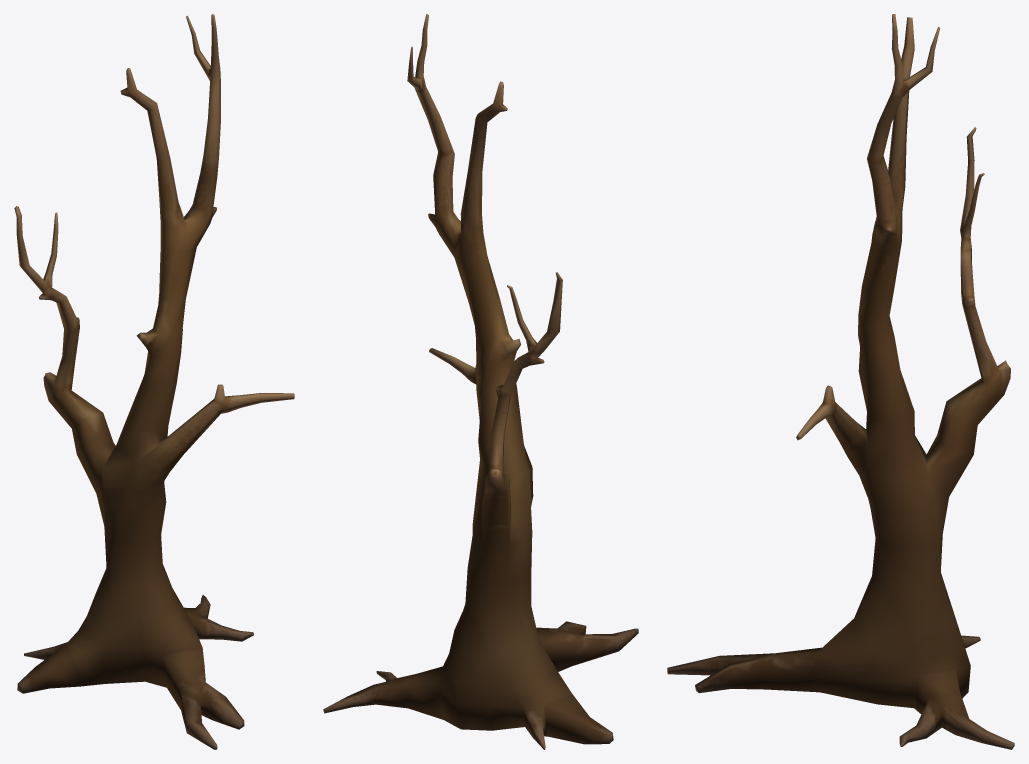
File: Tree_002.fbx
3 renders of one model, left to right at view 1: azimuth 30°, elevation 25°; view 2: azimuth 150°, elevation 25°; view 3: azimuth 270°, elevation 25°, orthographic. The views are drawn at different scales.
Visible parts, largest first — view 1: Tree002_low; view 2: Tree002_low; view 3: Tree002_low.
Part boxes in pixels (left/top/right/bottom): Tree002_low: left=14, top=14, right=294, bottom=749; Tree002_low: left=323, top=14, right=638, bottom=749; Tree002_low: left=667, top=14, right=1014, bottom=749.
Size of what is drawn, in the model's own units: 135 by 358 by 157.
Materials: 1 (1 with a texture image).
